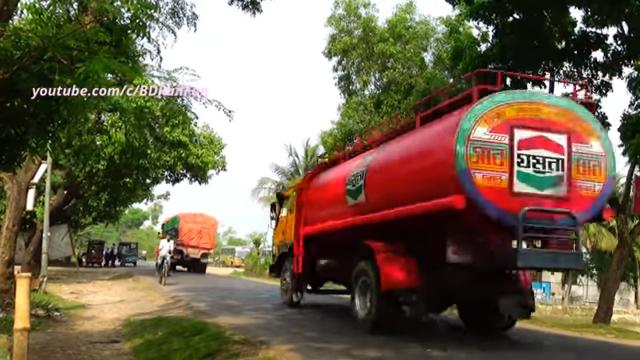bus: (223, 236, 244, 272)
truck: (268, 72, 623, 348), (159, 212, 220, 273)
